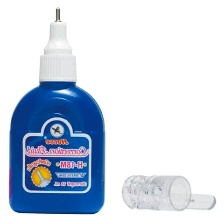correction_fluid: (6, 5, 108, 216)
